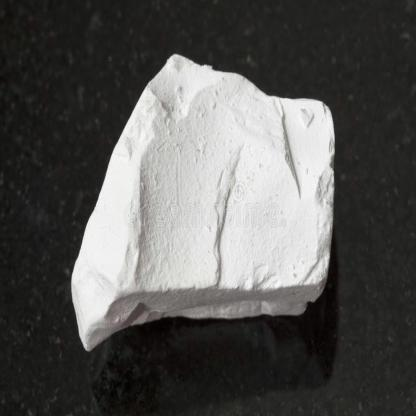Sedimentary_Limestone: (71, 48, 337, 357)
